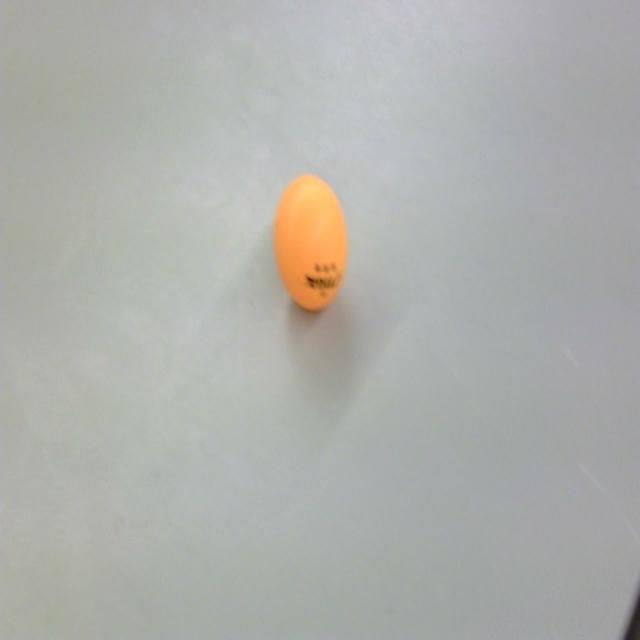ball: (272, 167, 349, 314)
